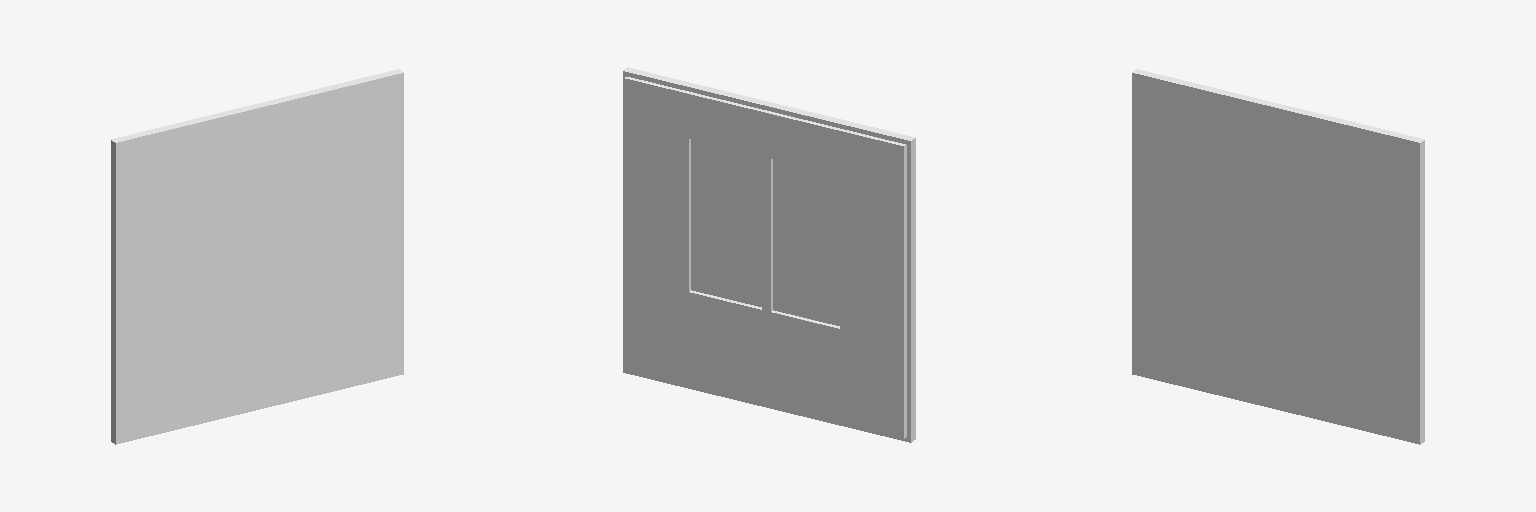
File: dom-12.obj
3 renders of one model, left to right at view 1: azimuth 30°, elevation 25°; view 2: azimuth 150°, elevation 25°; view 3: azimuth 330°, elevation 25°, orthographic.
Visible parts, largest first — view 1: object 1; view 2: object 1; view 3: object 1.
Part boxes in pixels (bbox=[...]): object 1: bbox=[111, 69, 403, 444]; object 1: bbox=[623, 67, 915, 442]; object 1: bbox=[1132, 69, 1424, 444].
Size of the model in its own units: 6.7 by 6.7 by 0.3.